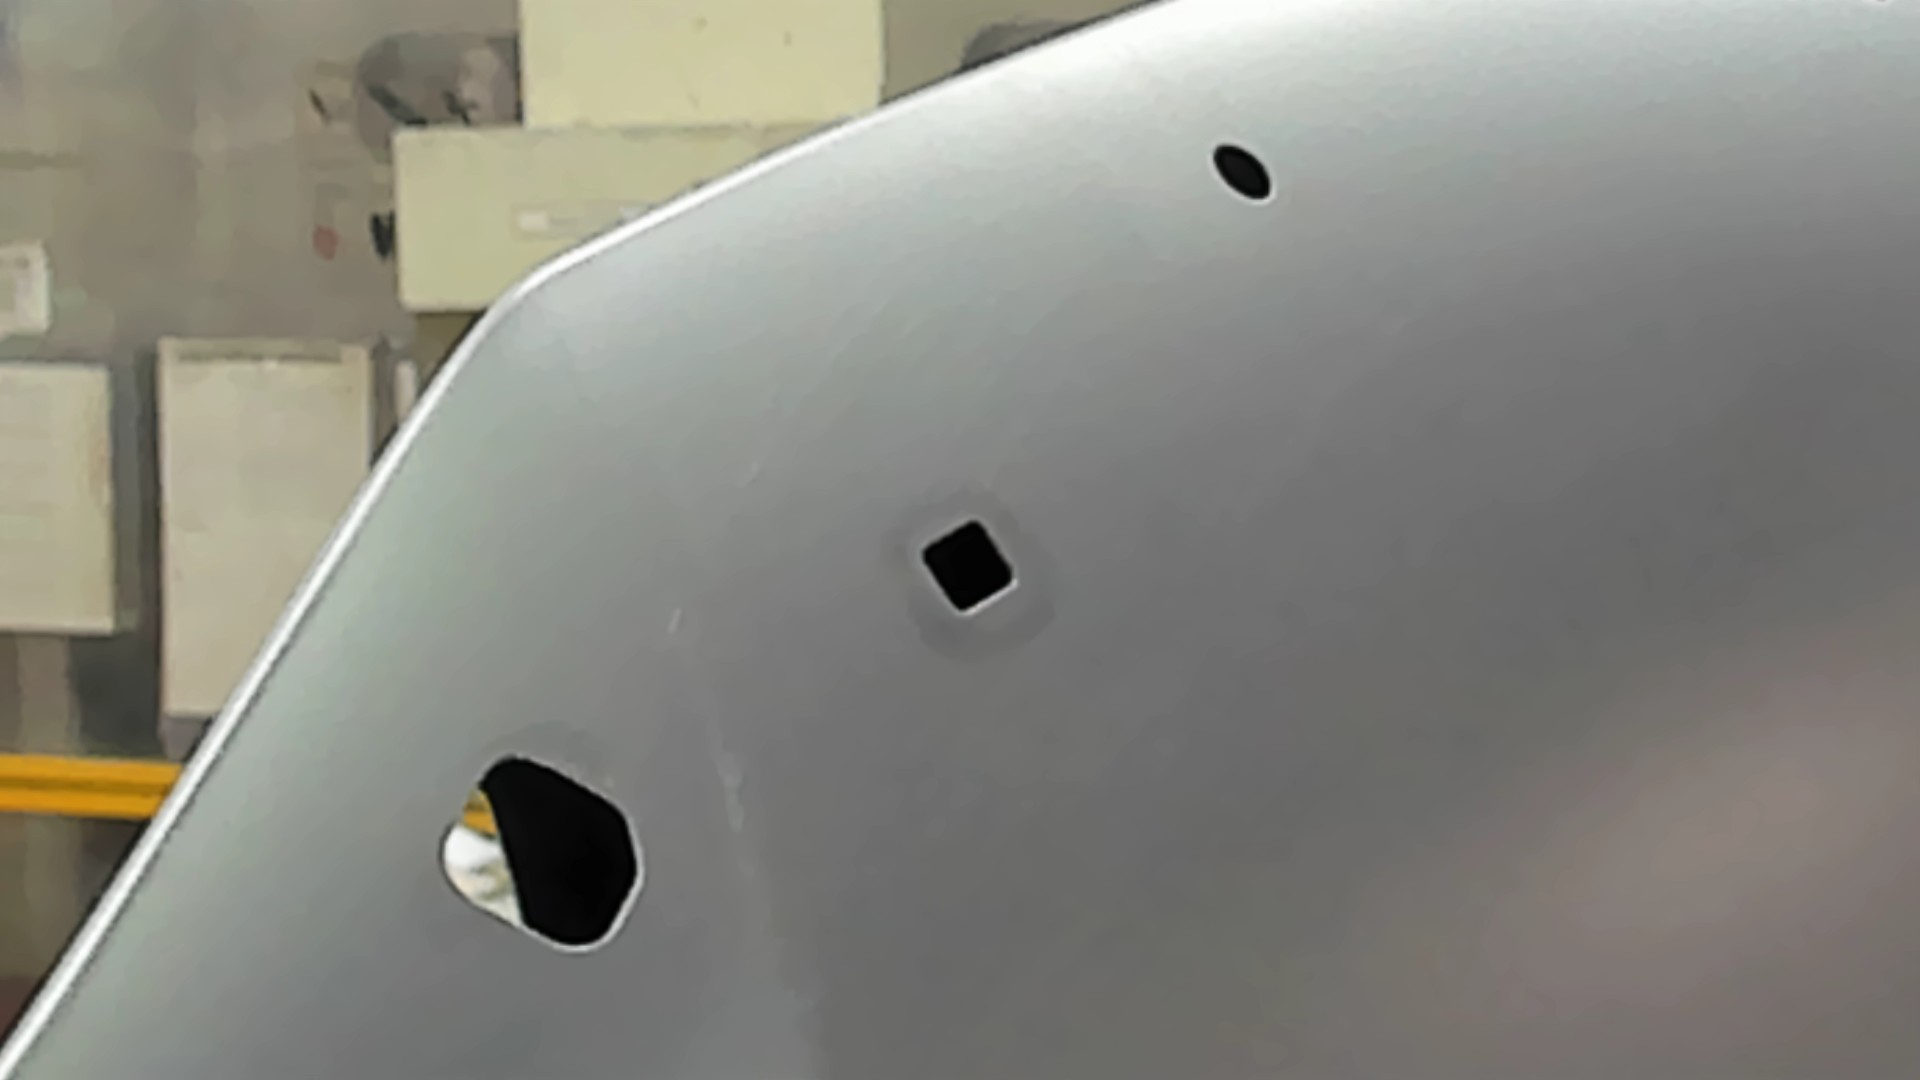chico: (1211, 136, 1274, 206)
grande: (436, 750, 646, 957)
mediano: (913, 513, 1023, 618)
